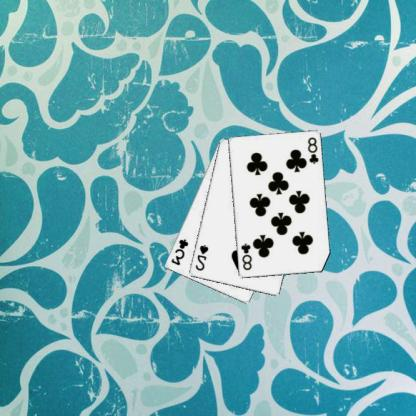2S: (194, 242, 211, 272)
3C: (170, 236, 191, 267)
8C: (306, 135, 322, 165), (240, 241, 255, 272)
